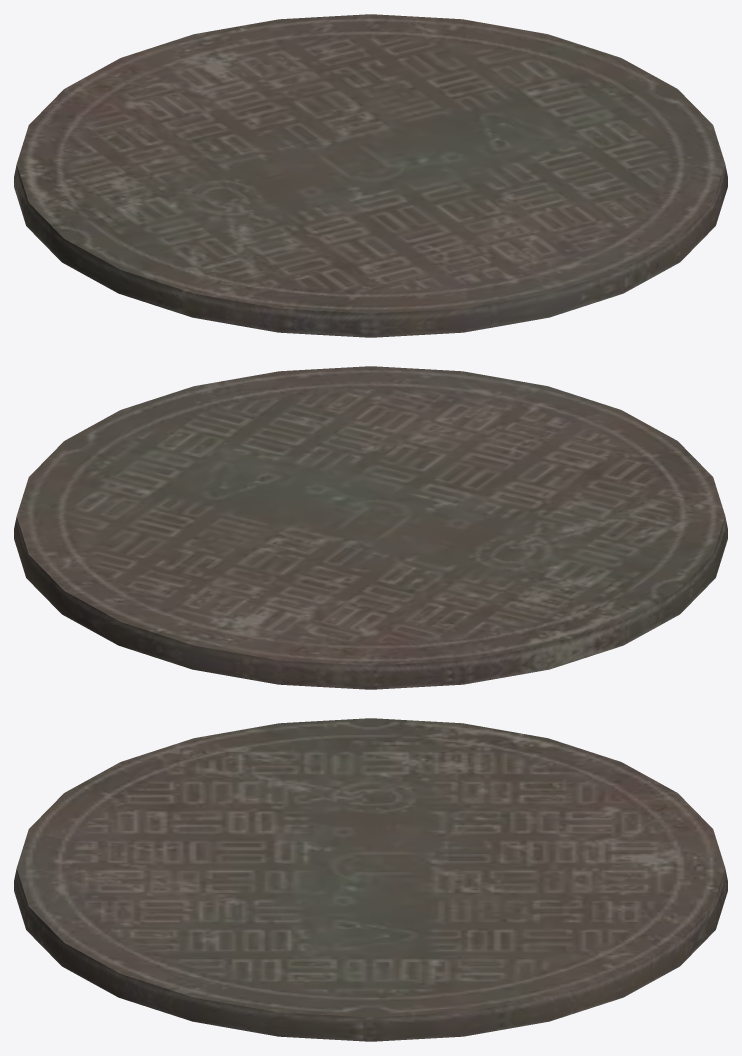
Rendered from Prop_ManholeCover.gltf.
The picture shows the model from 3 angles, top to bottom: view 1: azimuth 30°, elevation 25°; view 2: azimuth 150°, elevation 25°; view 3: azimuth 270°, elevation 25°; orthographic projection.
Visible parts, largest first — view 1: Prop_ManholeCover; view 2: Prop_ManholeCover; view 3: Prop_ManholeCover.
Boxes of the visible parts, x1,y1,x2,y2 form: Prop_ManholeCover: [14, 14, 727, 337]; Prop_ManholeCover: [14, 366, 727, 689]; Prop_ManholeCover: [14, 718, 727, 1041].
Bounding box in the file's own units: 0.9251 × 0.033 × 0.9251.
1 material, 1 textured.
